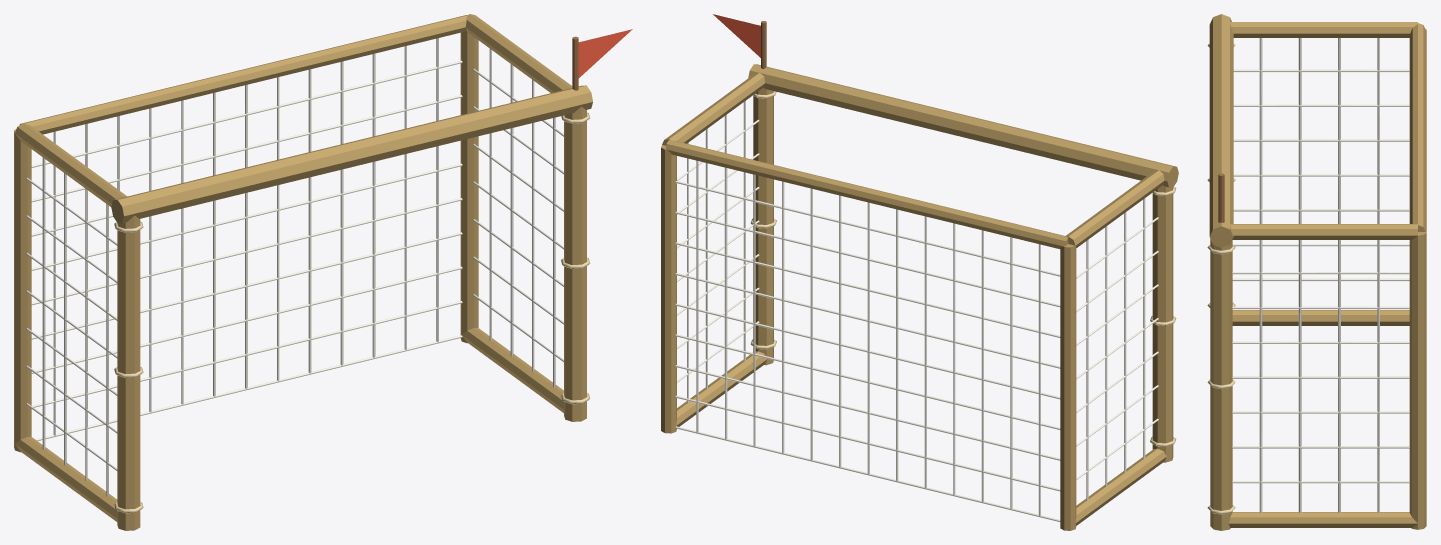
File: soccer-goal.glb
3 views of the same model, side by side, from view 1: azimuth 30°, elevation 25°; view 2: azimuth 150°, elevation 25°; view 3: azimuth 270°, elevation 25° (orthographic). The views are drawn at different scales.
Visible parts, largest first — view 1: Bamboo crossbar, Rear top bar, Bamboo goal upright, Bamboo goal upright.001, Bamboo rear support, Bamboo rear support.001, Side top bamboo, Side top bamboo.001, Side ground bamboo, Side ground bamboo.001, Rear horizontal net.008, Rear horizontal net.007 (+26 smaller); view 2: Bamboo crossbar, Rear top bar, Bamboo goal upright, Bamboo rear support, Bamboo goal upright.001, Bamboo rear support.001, Side top bamboo, Side top bamboo.001, Side ground bamboo, Side ground bamboo.001, Rear horizontal net, Rear horizontal net.004 (+27 smaller); view 3: Bamboo goal upright.001, Bamboo crossbar, Bamboo rear support.001, Rear top bar, Side top bamboo.001, Side ground bamboo.001, Side top bamboo, Side ground bamboo, Side vertical rope.007, Side vertical rope.008, Side vertical rope.009, Side vertical rope.010 (+20 smaller).
Part boxes in pixels (<box>): Bamboo crossbar: <box>111,85,592,223</box>; Rear top bar: <box>19,15,467,134</box>; Bamboo goal upright: <box>117,215,140,530</box>; Bamboo goal upright.001: <box>564,106,586,421</box>; Bamboo rear support: <box>14,129,31,452</box>; Bamboo rear support.001: <box>460,31,478,343</box>; Side top bamboo: <box>15,123,126,206</box>; Side top bamboo.001: <box>466,14,572,92</box>; Side ground bamboo: <box>15,437,117,521</box>; Side ground bamboo.001: <box>462,328,564,412</box>; Rear horizontal net.008: <box>31,60,462,167</box>; Rear horizontal net.007: <box>31,95,462,202</box>; Bamboo crossbar: <box>748,64,1178,187</box>; Rear top bar: <box>665,140,1068,248</box>; Bamboo goal upright: <box>1152,185,1173,462</box>; Bamboo rear support: <box>1060,244,1076,530</box>; Bamboo goal upright.001: <box>753,88,773,365</box>; Bamboo rear support.001: <box>661,145,676,433</box>; Side top bamboo: <box>1065,170,1164,247</box>; Side top bamboo.001: <box>662,73,764,145</box>; Side ground bamboo: <box>1075,448,1166,525</box>; Side ground bamboo.001: <box>676,351,767,426</box>; Rear horizontal net: <box>675,426,1060,522</box>; Rear horizontal net.004: <box>675,303,1060,399</box>; Bamboo goal upright.001: <box>1210,239,1232,530</box>; Bamboo crossbar: <box>1209,14,1233,247</box>; Bamboo rear support.001: <box>1409,231,1426,529</box>; Rear top bar: <box>1410,23,1425,231</box>; Side top bamboo.001: <box>1230,224,1417,239</box>; Side ground bamboo.001: <box>1228,512,1417,527</box>; Side top bamboo: <box>1230,22,1417,37</box>; Side ground bamboo: <box>1232,310,1409,325</box>; Side vertical rope.007: <box>1259,240,1262,513</box>; Side vertical rope.008: <box>1298,240,1301,513</box>; Side vertical rope.009: <box>1338,240,1340,513</box>; Side vertical rope.010: <box>1377,240,1379,513</box>.
Size of the model in its own units: 3.24 by 2.28 by 1.28.
